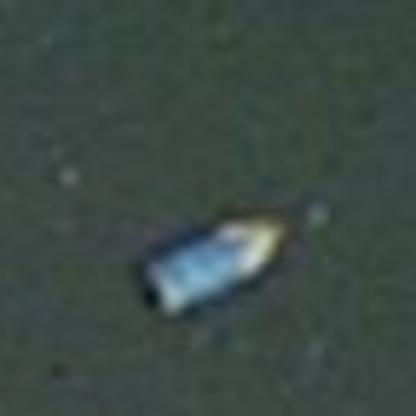ship: (124, 195, 316, 331)
